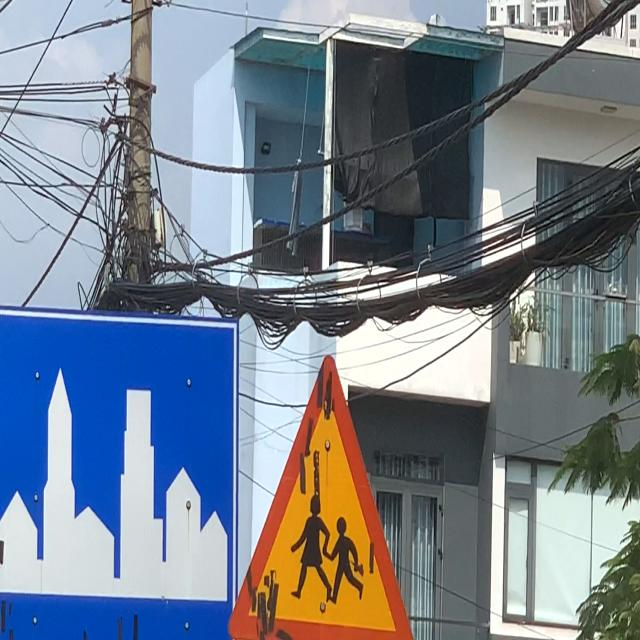W.225: (221, 344, 421, 640)
